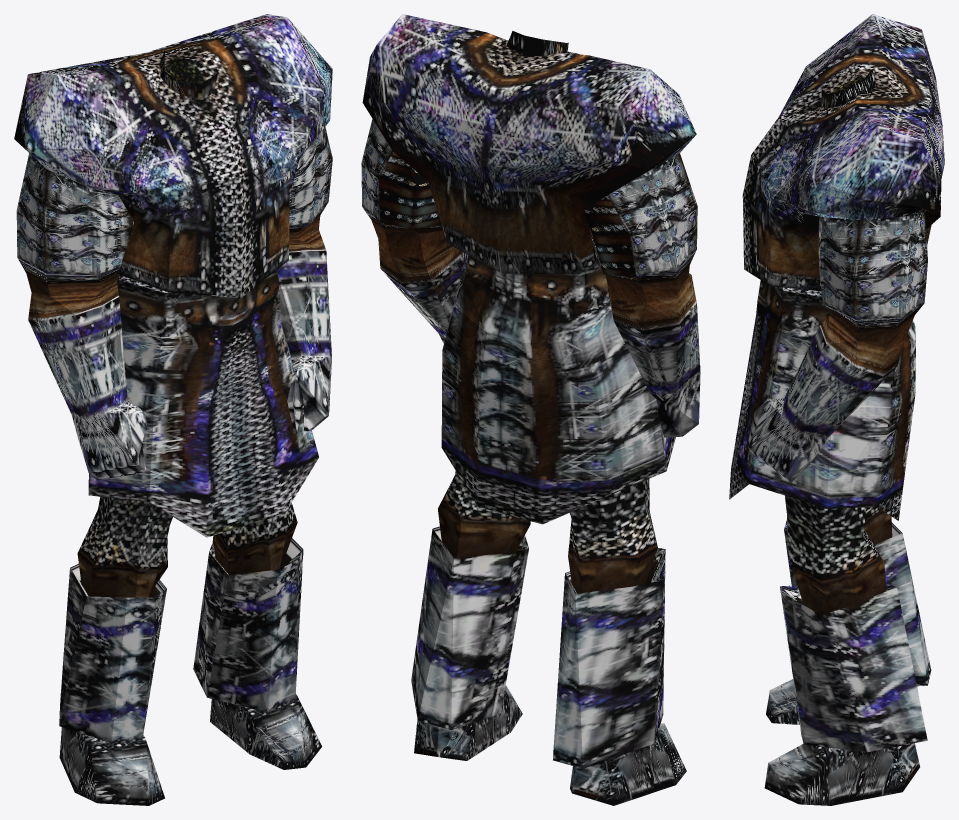
File: ORE_ARMOR_M-CyX29aaG.glb
3 renders of one model, left to right at view 1: azimuth 30°, elevation 25°; view 2: azimuth 150°, elevation 25°; view 3: azimuth 270°, elevation 25°, orthographic. The views are drawn at different scales.
Visible parts, largest first — view 1: zm_magamo; view 2: zm_magamo; view 3: zm_magamo.
Part boxes in pixels (<box>): zm_magamo: <box>14,14,332,805</box>; zm_magamo: <box>361,14,700,805</box>; zm_magamo: <box>729,14,944,805</box>.
Bounding box in the file's own units: 0.7735 × 1.68 × 0.4784.
1 material, 1 textured.
